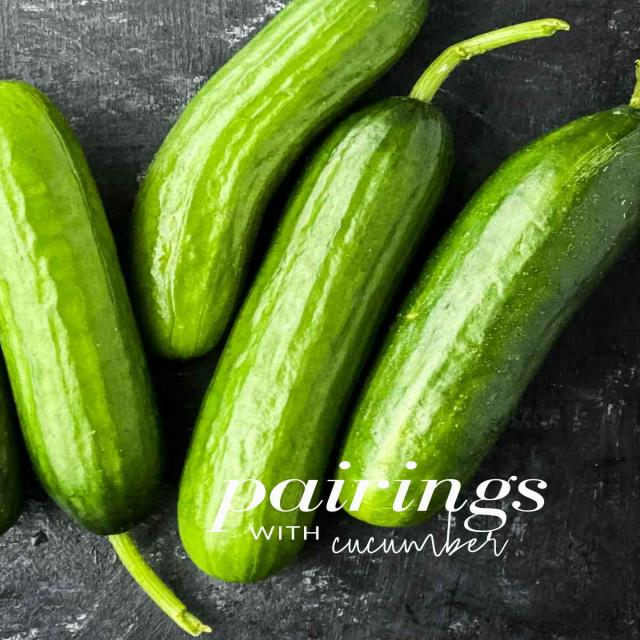Pickle: (178, 98, 452, 582), (337, 105, 638, 526), (2, 81, 205, 634), (133, 0, 428, 359)
